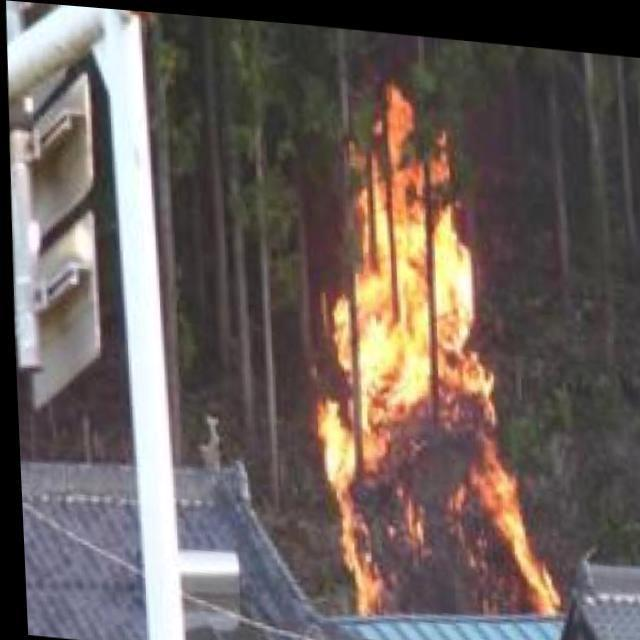fire: (307, 76, 549, 630)
